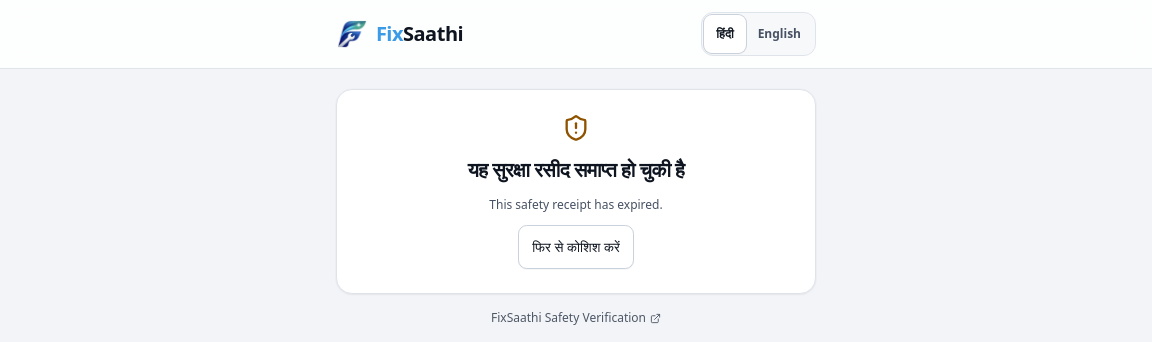
Test: Customer Safety Receipt page (/receipt/:id) › shows expired notice cleanly when receipt has expired
expect the heading "यह सुरक्षा रसीद समाप्त हो चुकी है" is shown: met, box [468,156,684,183]
Step 1. Click the button "English" → (779, 34), box [746,15,813,53]
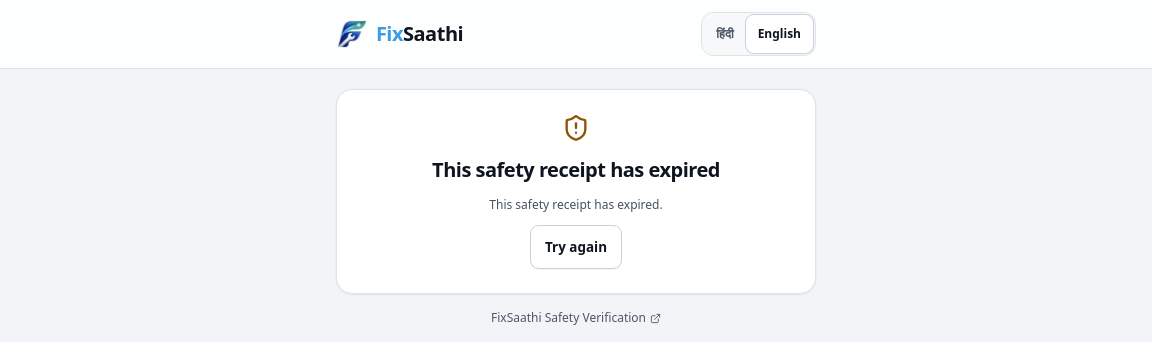
expect the heading "This safety receipt has expired" is shown: met, box [432,156,720,183]
